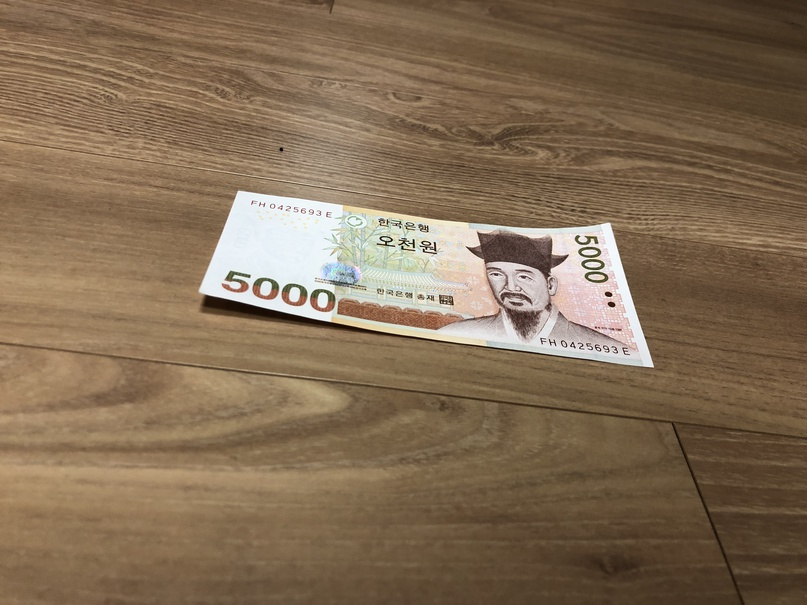5000won: (196, 189, 657, 370)
